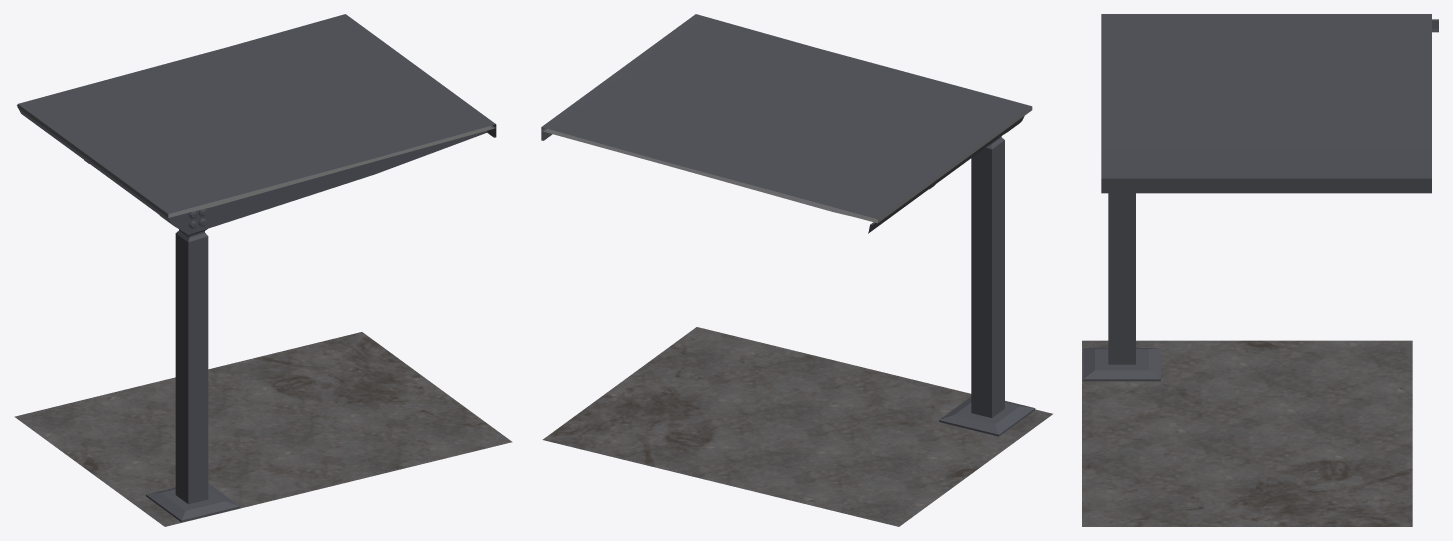
The model's file is ShelterWalkWayDefault.fbx.
3 views of the same model, side by side, from view 1: azimuth 30°, elevation 25°; view 2: azimuth 150°, elevation 25°; view 3: azimuth 270°, elevation 25° (orthographic). The views are drawn at different scales.
Visible parts, largest first — view 1: Rooftop, Floor, Pillar, PillarEdge; view 2: Rooftop, Floor, Pillar, PillarEdge; view 3: Floor, Rooftop, Pillar, PillarEndEdge.
Boxes of the visible parts, x1,y1,x2,y2 form: Rooftop: [17, 14, 496, 217]; Floor: [14, 332, 512, 526]; Pillar: [146, 131, 487, 522]; PillarEdge: [17, 105, 171, 223]; Rooftop: [541, 14, 1032, 223]; Floor: [542, 327, 1052, 526]; Pillar: [939, 121, 1035, 436]; PillarEdge: [868, 116, 1024, 233]; Floor: [1082, 340, 1412, 526]; Rooftop: [1101, 14, 1431, 182]; Pillar: [1083, 193, 1160, 381]; PillarEndEdge: [1101, 183, 1431, 193].
Bounding box in the file's own units: 316 × 272 × 256.
1 material, 1 textured.
